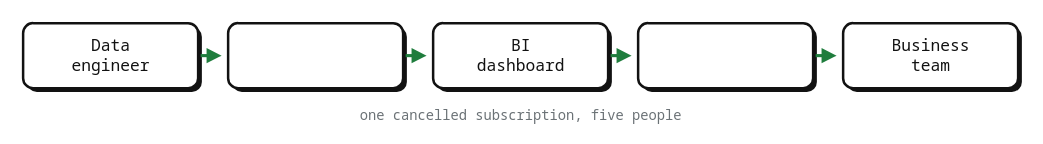
The diagram is 1043 pixels wide and 144 high, and some of its shapes have lost their labels. Here are the shapes that lost their labels. From the top down, the centre of each, then its label:
(315,55): Data analyst
(725,55): Data scientist
